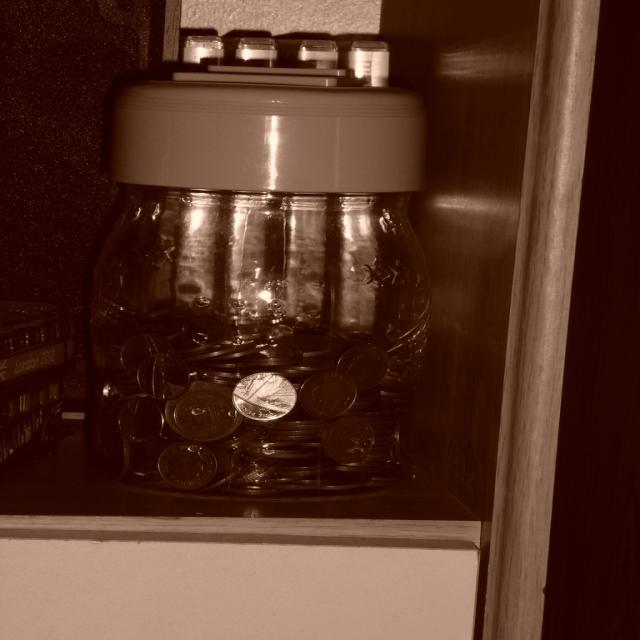Coin: (92, 324, 426, 496)
